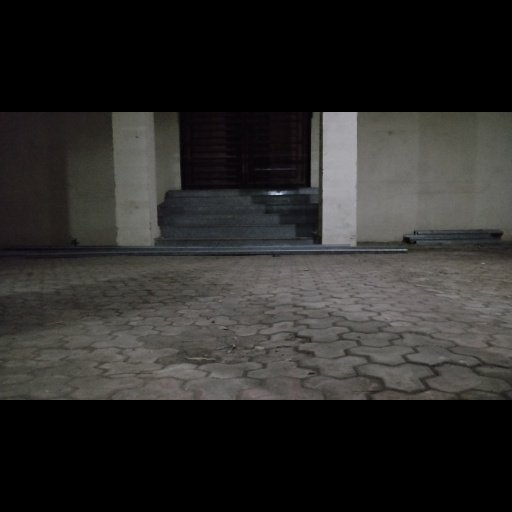Stairs: (155, 188, 341, 254)
